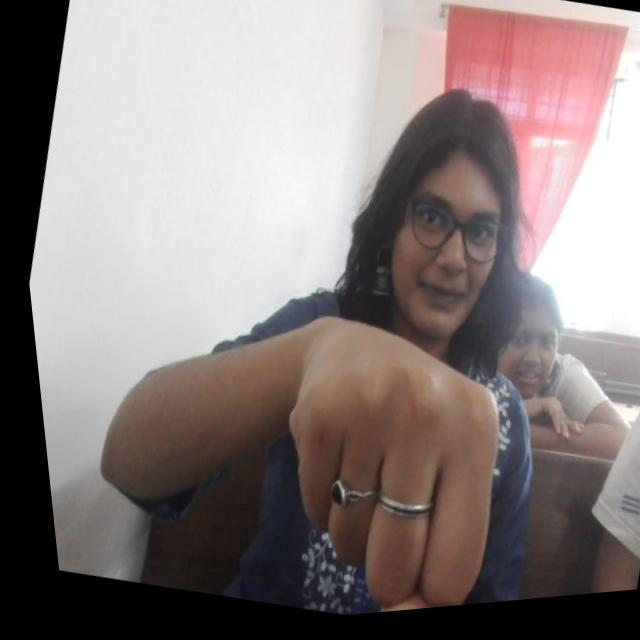yes: (221, 293, 533, 626)
